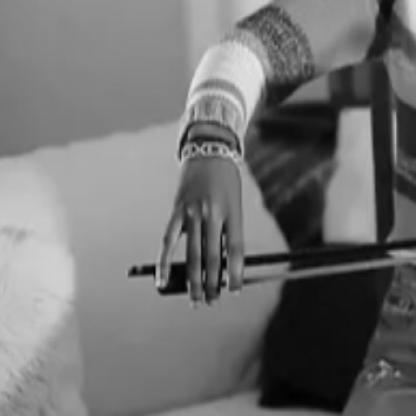bad: (150, 180, 254, 304)
